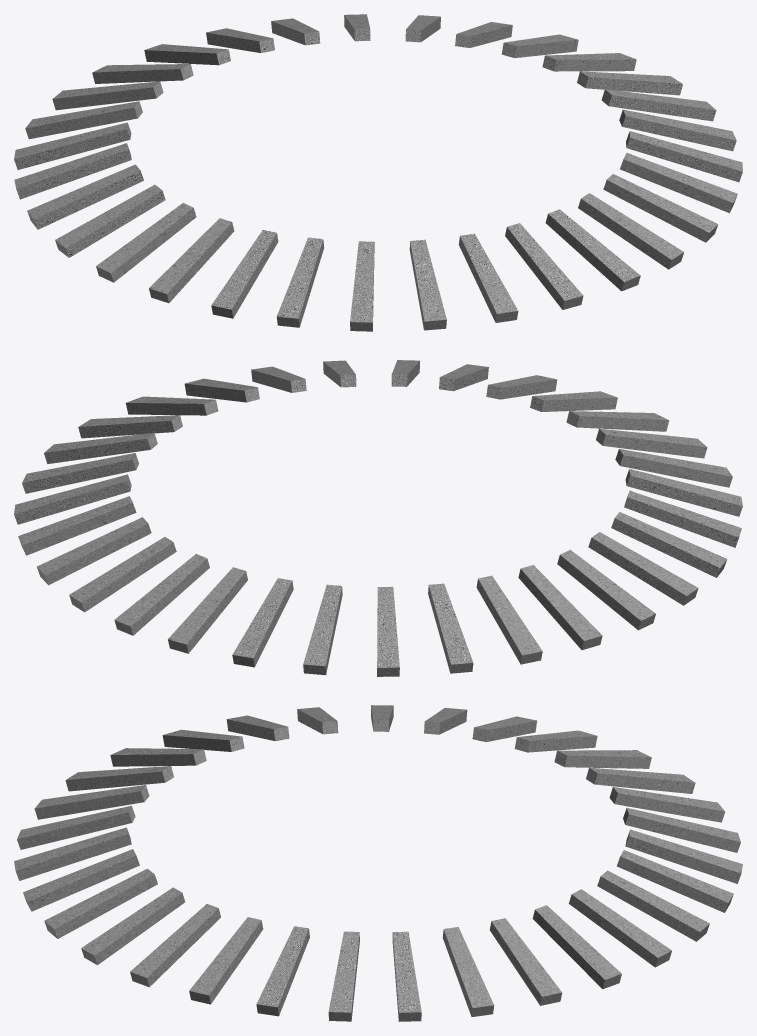
The model's file is FBX_ModuleSpacePortBeams.fbx.
3 renders of one model, top to bottom at view 1: azimuth 30°, elevation 25°; view 2: azimuth 150°, elevation 25°; view 3: azimuth 270°, elevation 25°, orthographic.
Visible parts, largest first — view 1: Ship Bay Beams Export; view 2: Ship Bay Beams Export; view 3: Ship Bay Beams Export.
Part boxes in pixels (left/top/right/bottom): Ship Bay Beams Export: left=14, top=14, right=742, bottom=331; Ship Bay Beams Export: left=14, top=360, right=742, bottom=676; Ship Bay Beams Export: left=14, top=705, right=742, bottom=1021.
Bounding box in the file's own units: 1.67 × 1.67 × 0.1107.
